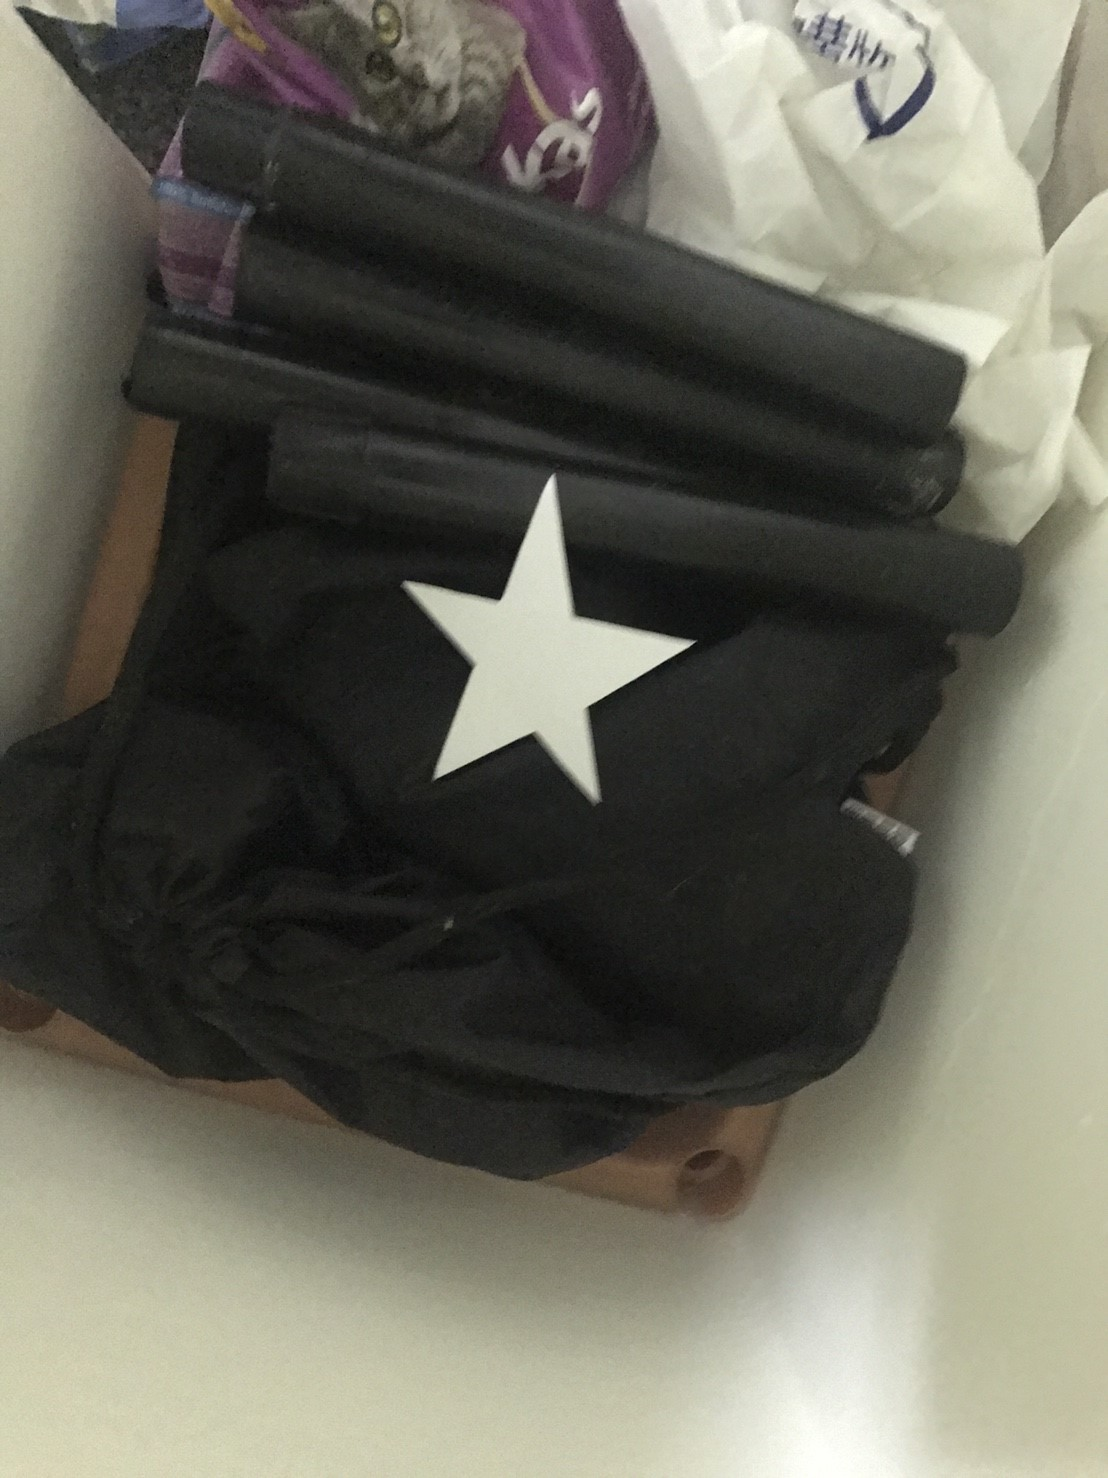star: (395, 466, 705, 824)
